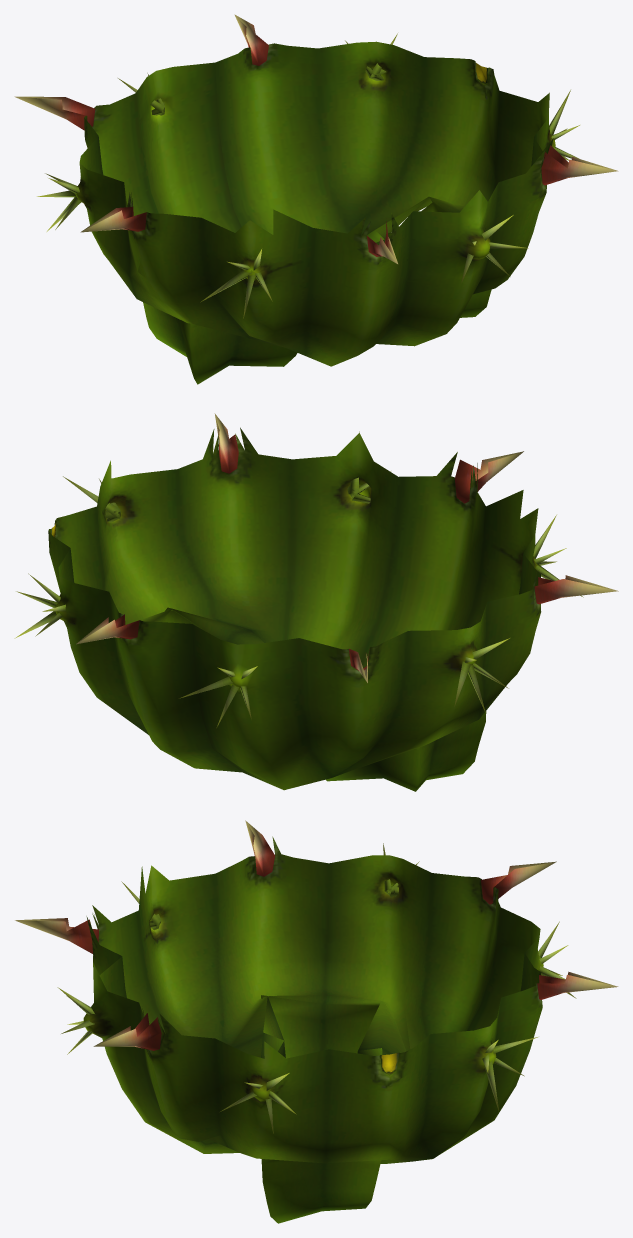
The model's file is cactus_base.obj.
The picture shows the model from 3 angles, top to bottom: view 1: azimuth 30°, elevation 25°; view 2: azimuth 150°, elevation 25°; view 3: azimuth 270°, elevation 25°; orthographic projection. The views are drawn at different scales.
Parts seen in each view (by area): view 1: cactus_base; view 2: cactus_base; view 3: cactus_base.
Boxes of the visible parts, x1,y1,x2,y2 form: cactus_base: [14, 14, 618, 384]; cactus_base: [14, 413, 618, 791]; cactus_base: [15, 820, 618, 1223].
Size of the model in its own units: 0.5995 by 0.2506 by 0.6025.
